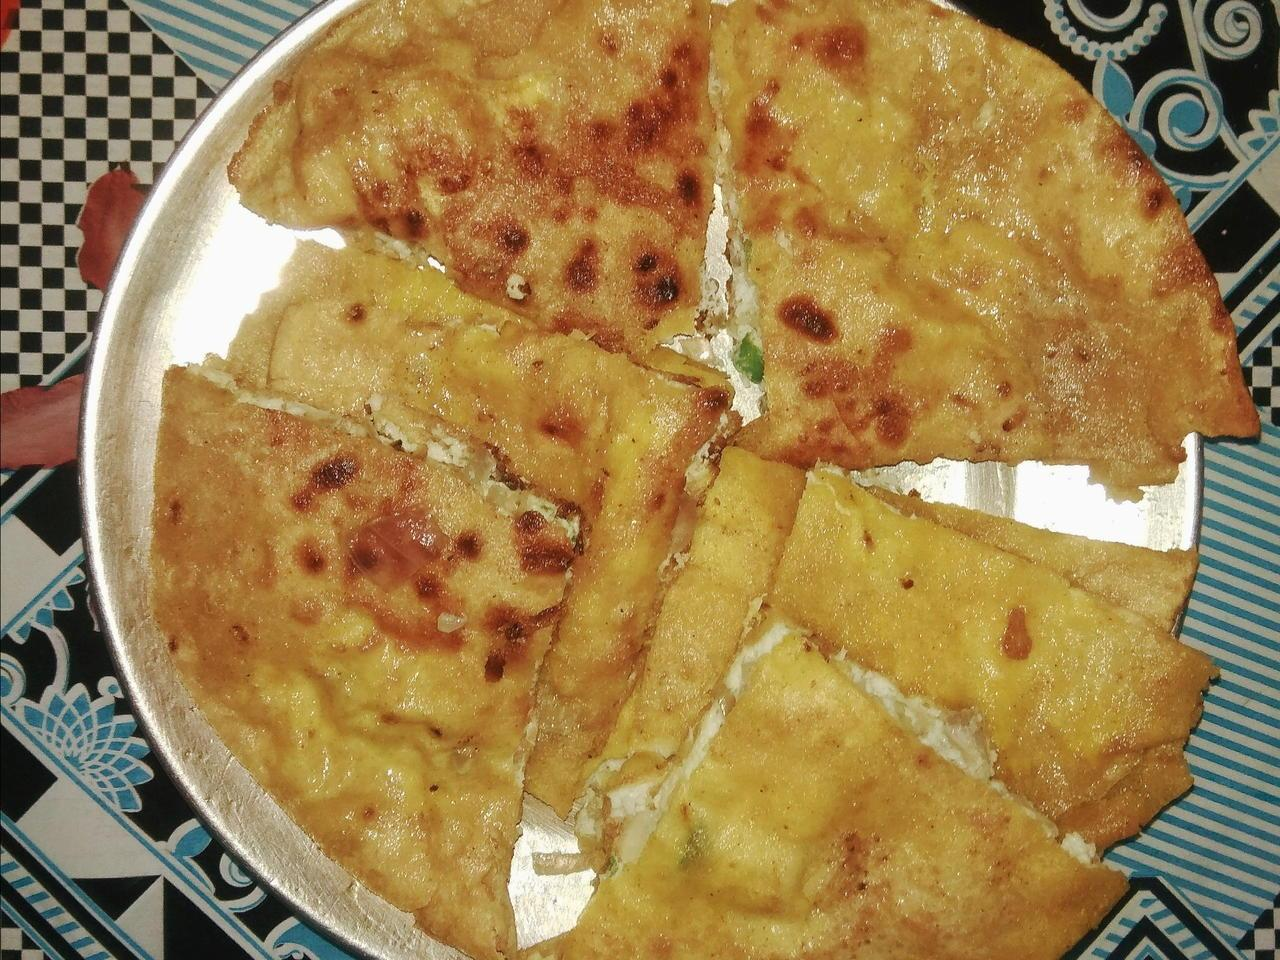chapati: (713, 2, 1258, 496)
